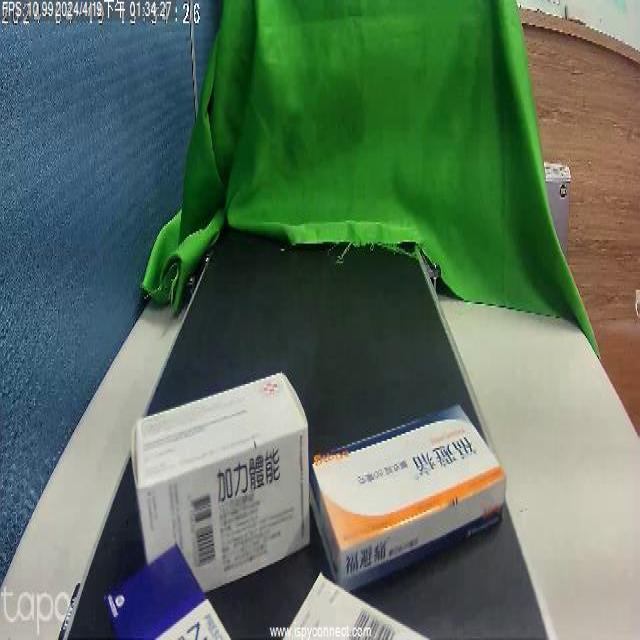box: (326, 421, 490, 578), (144, 394, 302, 551)
